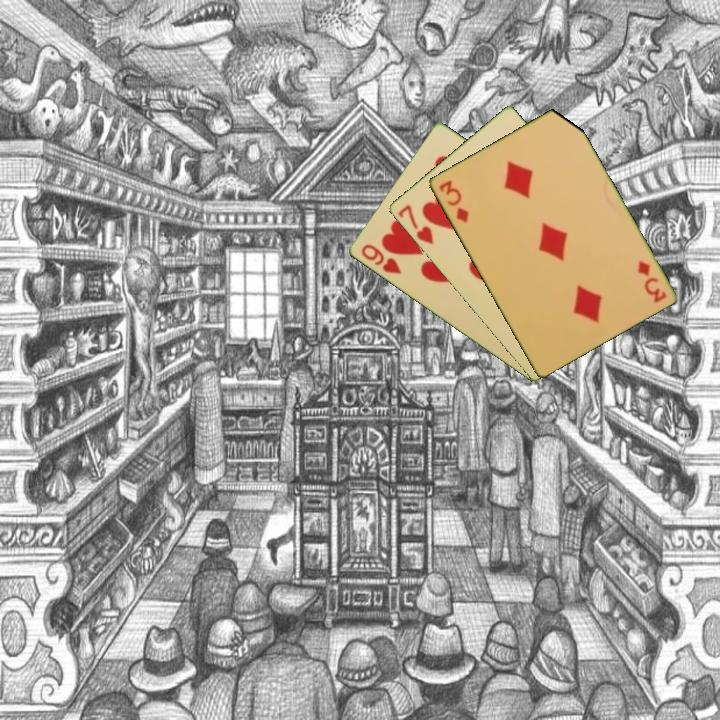3d: (435, 176, 471, 226), (634, 257, 669, 306)
7h: (394, 201, 436, 248)
9h: (357, 241, 404, 277)
